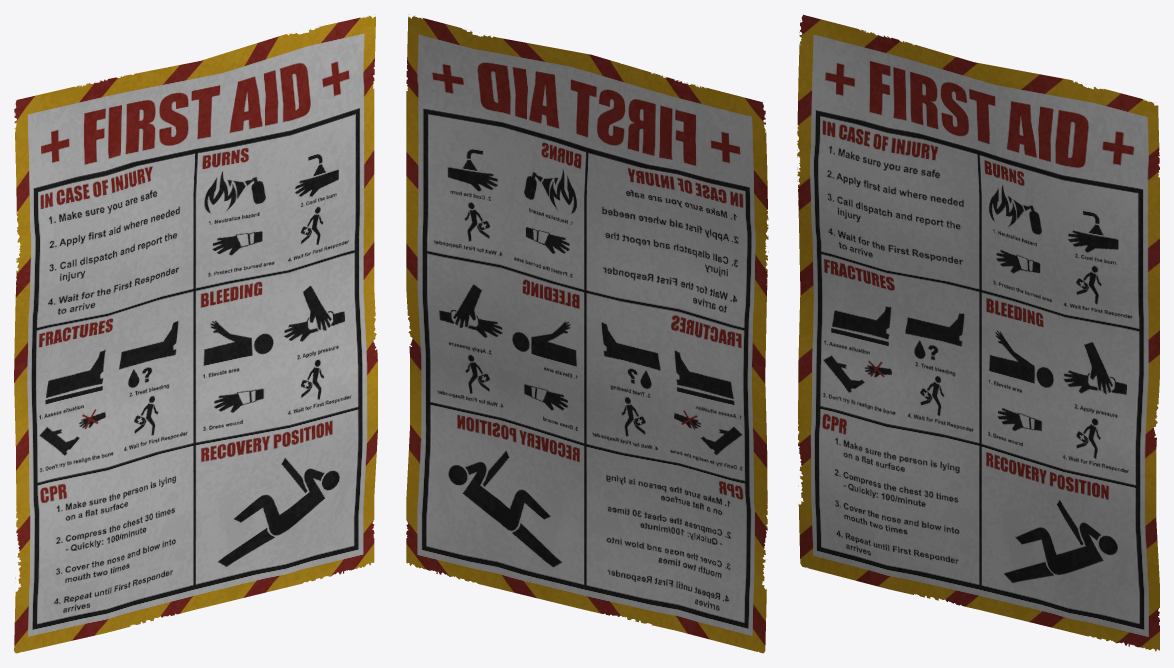
Rendered from poster_firstaid.dae.
3 views of the same model, side by side, from view 1: azimuth 30°, elevation 25°; view 2: azimuth 150°, elevation 25°; view 3: azimuth 330°, elevation 25° (orthographic).
Visible parts, largest first — view 1: poster_aid; view 2: poster_aid; view 3: poster_aid.
Part boxes in pixels (<box>): poster_aid: <box>14,14,377,653</box>; poster_aid: <box>406,14,768,653</box>; poster_aid: <box>797,14,1159,651</box>.
Size of the model in its own units: 83.58 by 123 by 2.79.
